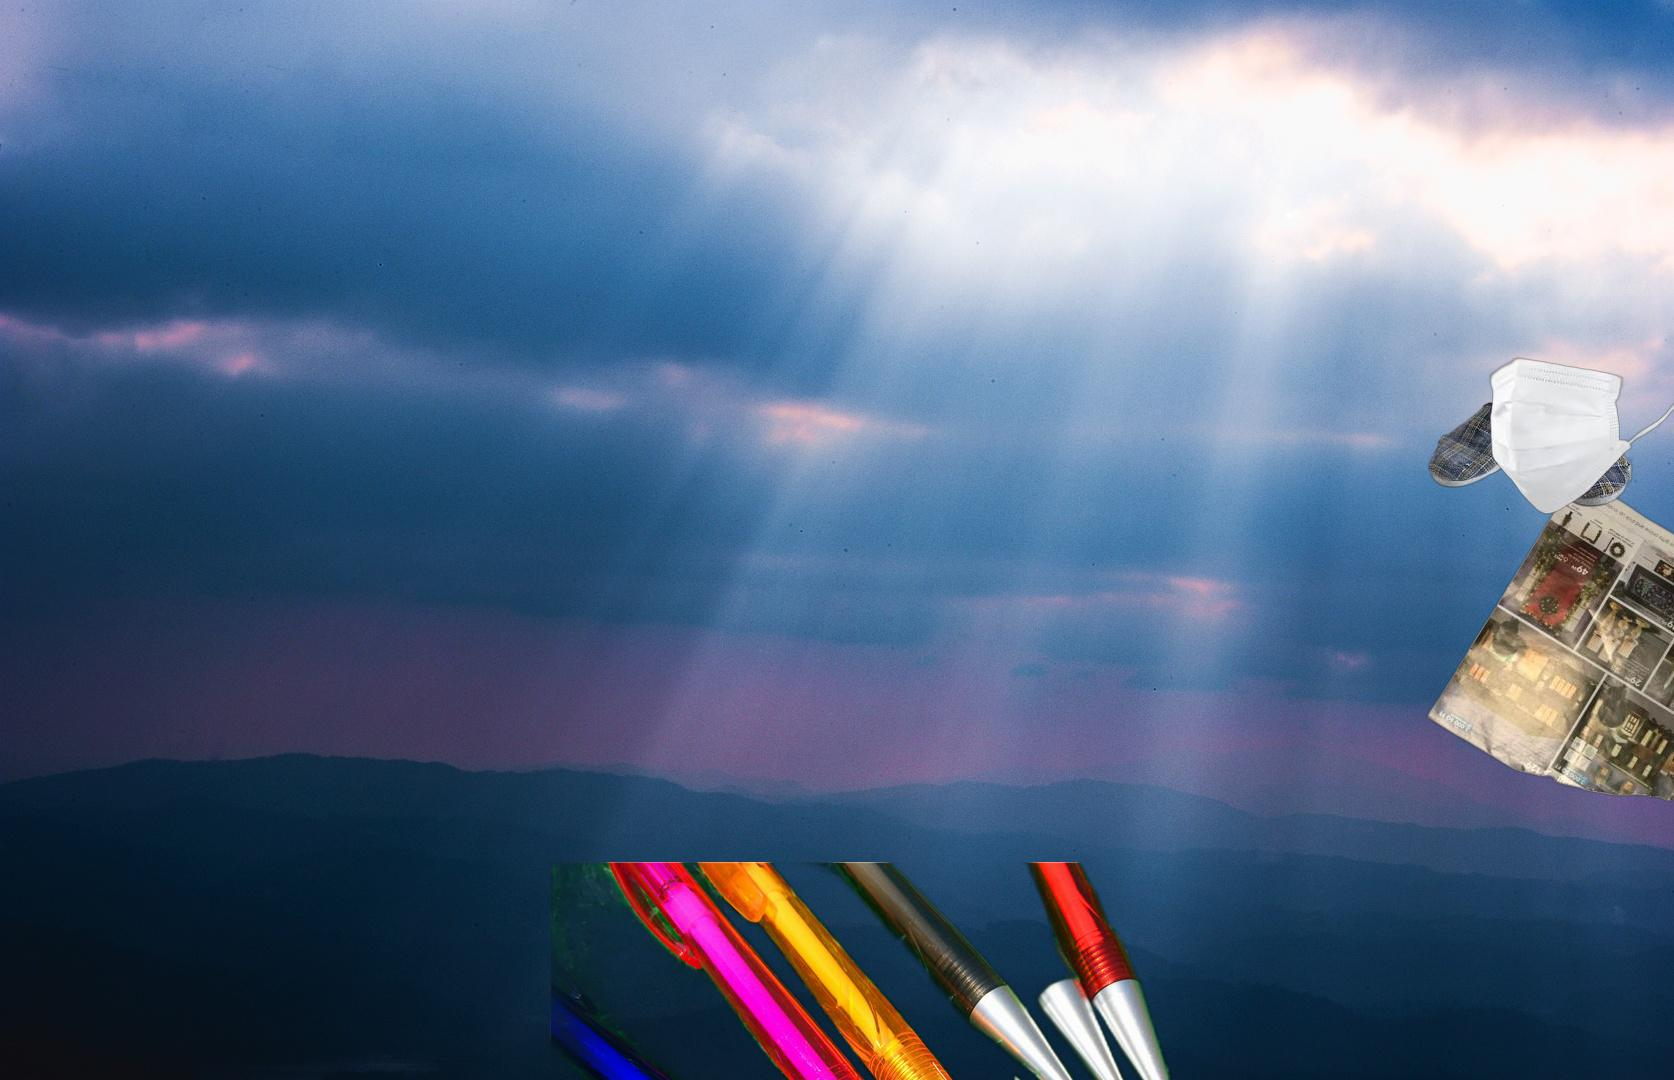paper: (1423, 473, 1674, 805)
penholder: (550, 862, 1184, 1080)
shoes: (1428, 384, 1635, 509)
trash: (1487, 355, 1674, 517)
